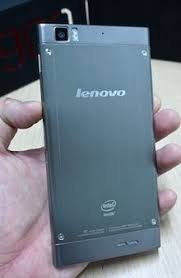lenovo: (32, 21, 164, 270)
